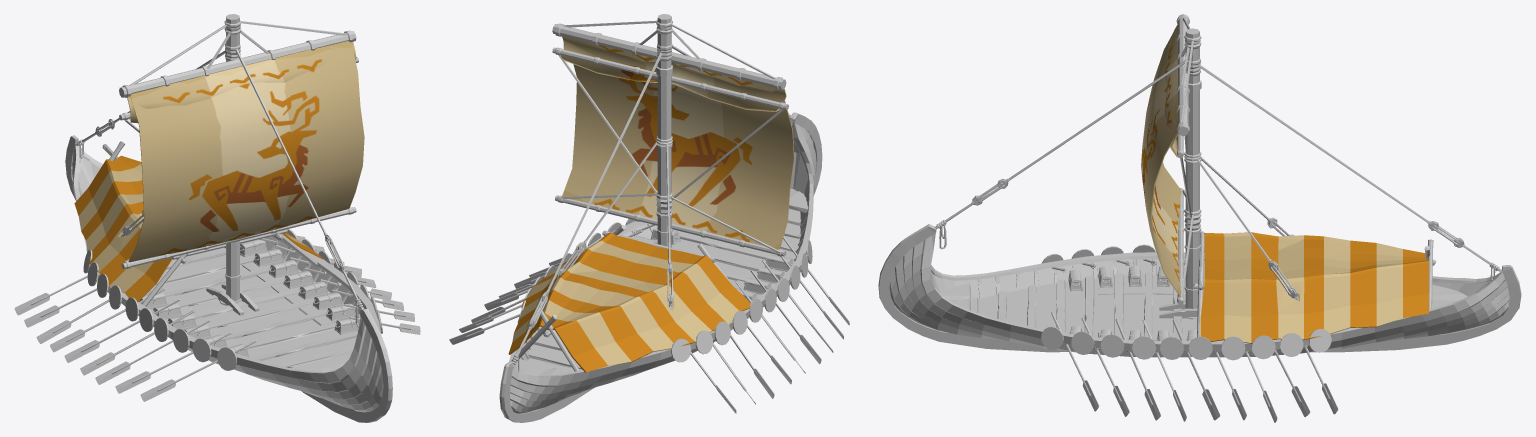
File: SM_Veh_Boat_Large_01.fbx
3 renders of one model, left to right at view 1: azimuth 30°, elevation 25°; view 2: azimuth 150°, elevation 25°; view 3: azimuth 270°, elevation 25°, orthographic.
Visible parts, largest first — view 1: SM_Veh_Boat_Large_01, SM_Veh_Boat_Large_01_Tent_Cloth_01; view 2: SM_Veh_Boat_Large_01, SM_Veh_Boat_Large_01_Tent_Cloth_01; view 3: SM_Veh_Boat_Large_01, SM_Veh_Boat_Large_01_Tent_Cloth_01.
Boxes of the visible parts, left/top/right/bottom form: SM_Veh_Boat_Large_01: left=14, top=14, right=420, bottom=422; SM_Veh_Boat_Large_01_Tent_Cloth_01: left=74, top=155, right=323, bottom=302; SM_Veh_Boat_Large_01: left=449, top=14, right=849, bottom=422; SM_Veh_Boat_Large_01_Tent_Cloth_01: left=508, top=232, right=750, bottom=372; SM_Veh_Boat_Large_01: left=878, top=14, right=1521, bottom=422; SM_Veh_Boat_Large_01_Tent_Cloth_01: left=1200, top=232, right=1428, bottom=343.
Bounding box in the file's own units: 1439 × 1421 × 2585.
